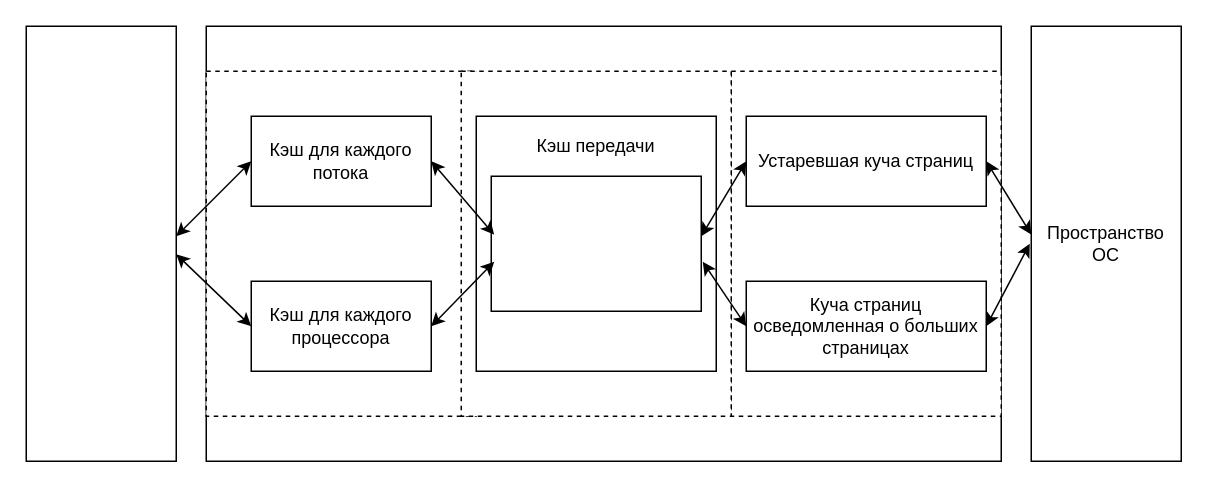
Image size: 1208x488. Some labels were removed from this diagram. Each missing label, with the box of its shape:
Пространство пользователя: (25, 25, 176, 461)
Центральный свободный список: (490, 175, 701, 311)
